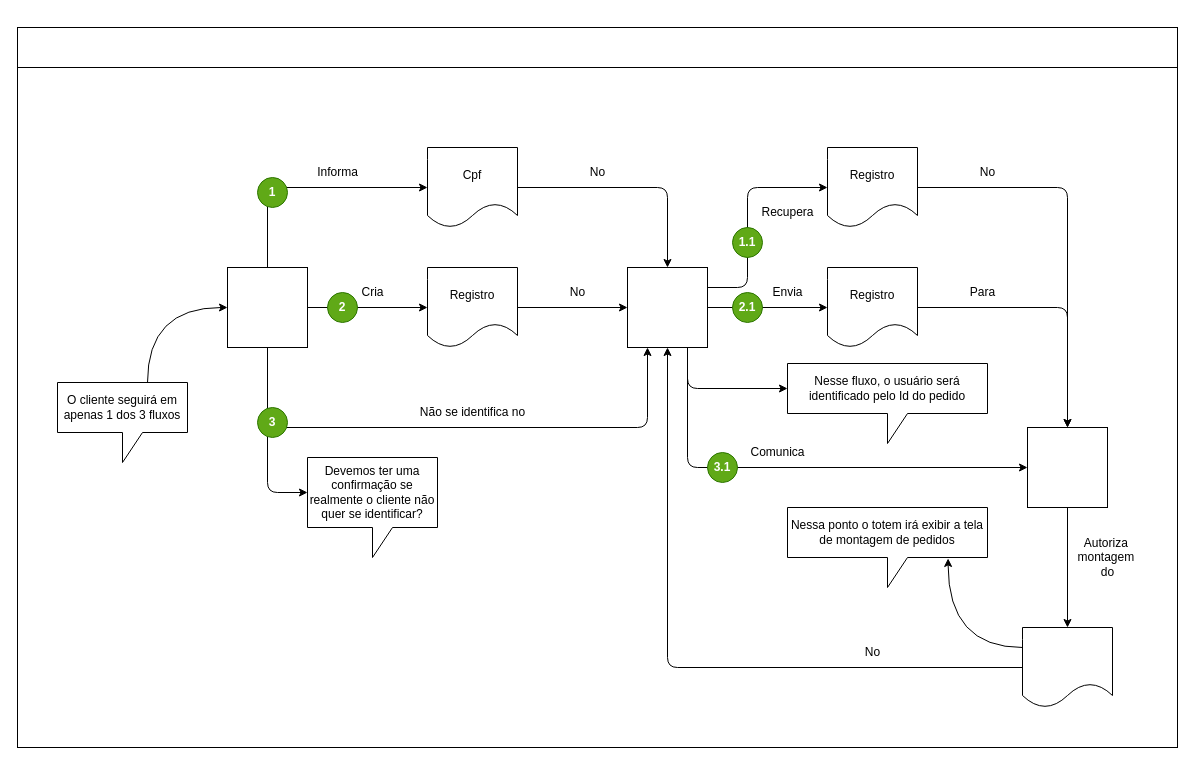
The diagram is 1195 pixels wide and 765 high, and some of its shapes have lost their labels. The box of each missing label's shape, as (x1, y1, x2, y2) in pixels:
Cliente: (226, 266, 308, 348)
Customer Flow: (16, 26, 1178, 68)
Pedido: (1022, 626, 1112, 708)
Sistema: (1026, 426, 1108, 508)
Totem: (626, 266, 708, 348)
